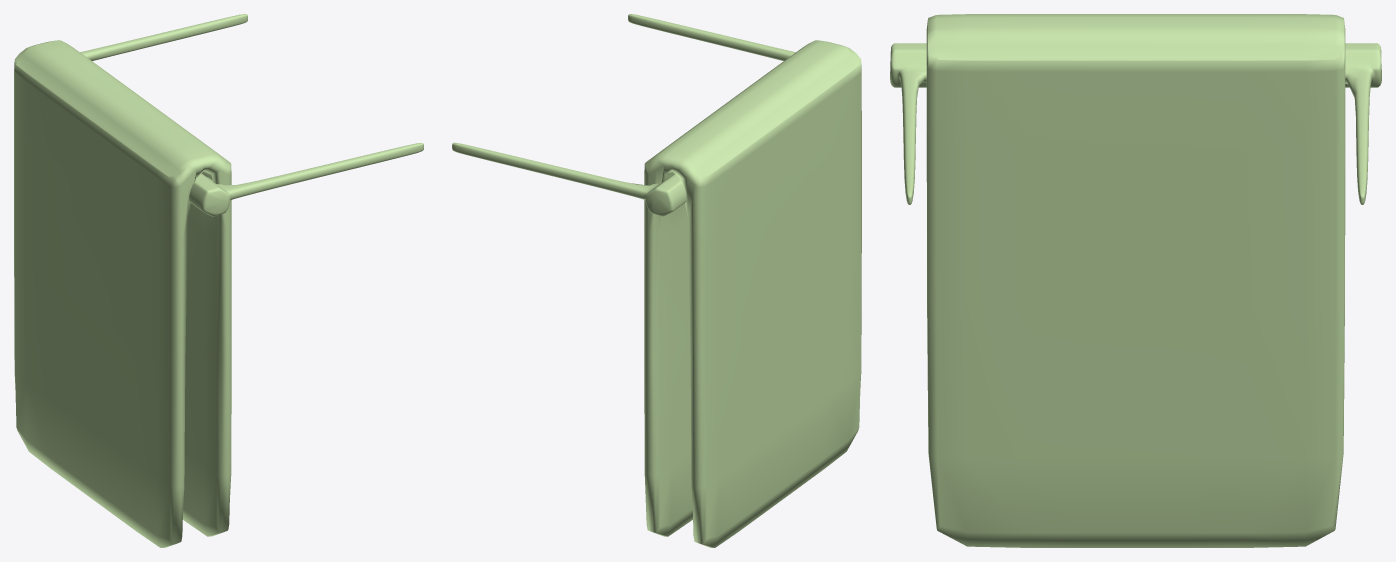
Rendered from towel.fbx.
The picture shows the model from 3 angles, left to right: view 1: azimuth 30°, elevation 25°; view 2: azimuth 150°, elevation 25°; view 3: azimuth 270°, elevation 25°; orthographic projection. The views are drawn at different scales.
Visible parts, largest first — view 1: Cube; view 2: Cube; view 3: Cube.
Boxes of the visible parts, x1,y1,x2,y2 form: Cube: (14, 14, 423, 547); Cube: (452, 14, 861, 547); Cube: (890, 14, 1381, 547).
Bounding box in the file's own units: 1.17 × 1.82 × 1.59.
